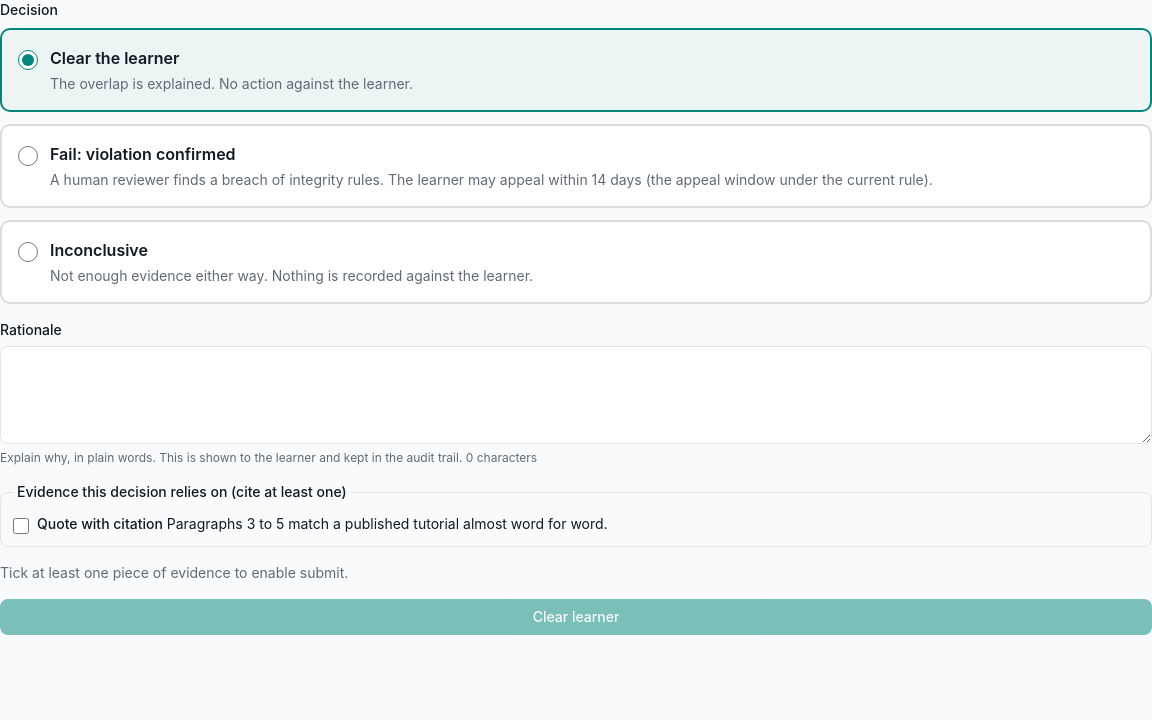
it: DecisionForm › asks for a matched passage or source reference when the case has none on record
Click the radio button labelled "Fail: violation confirmed": point(28, 156) x1=18 y1=146 x2=38 y2=166
(page scrolled)
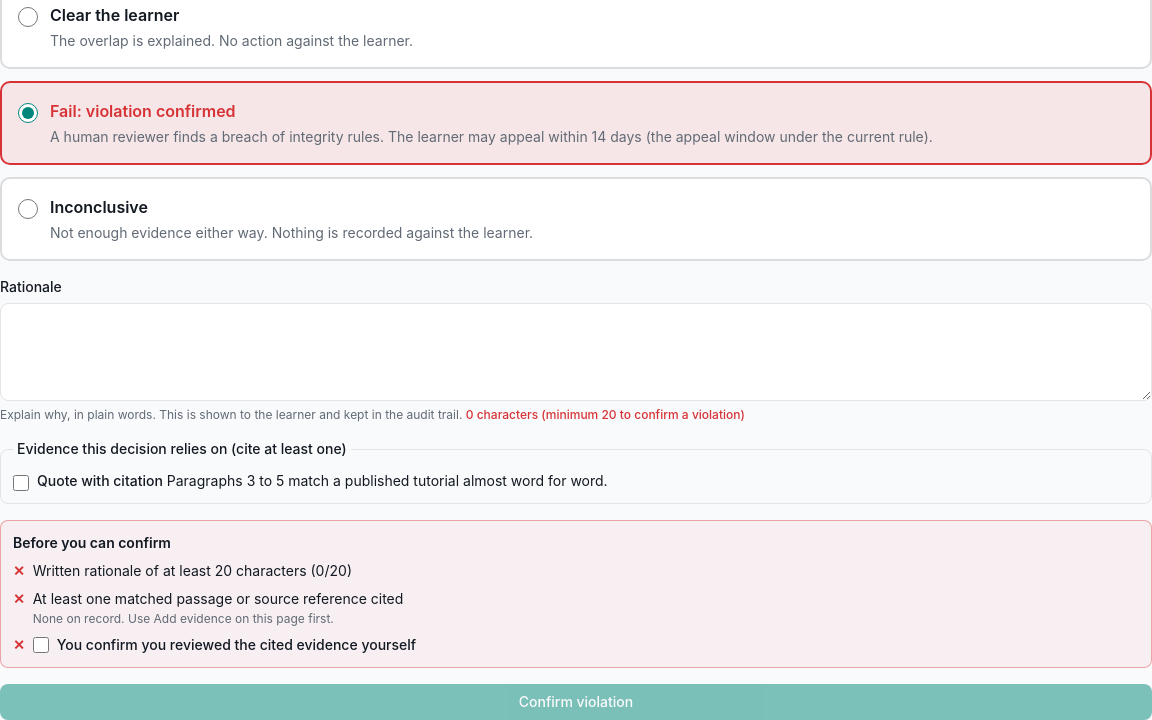
Expected: the button "Confirm violation" is disabled, x1=0 y1=684 x2=1151 y2=719
Expected: the text "None on record. Use Add evidence on this page first." is shown, x1=33 y1=611 x2=334 y2=626
